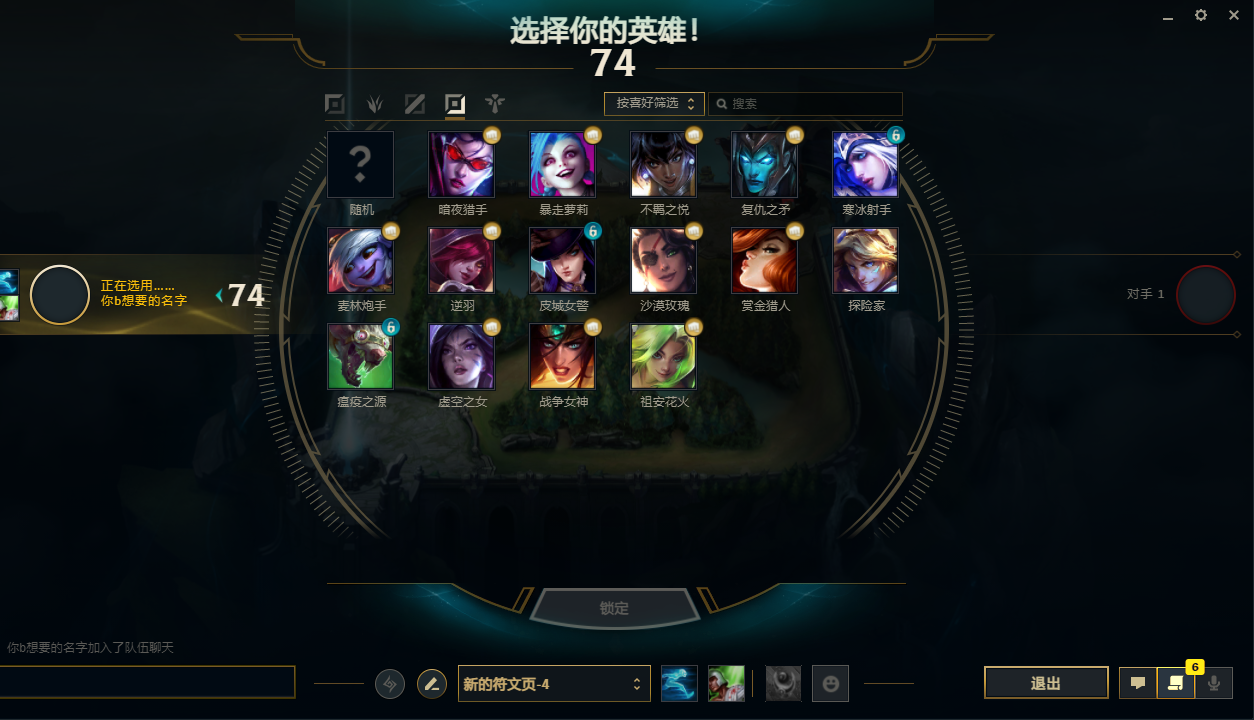HBSS: (832, 147, 906, 200)
HSSD: (516, 580, 707, 637)
JKS: (529, 148, 599, 201)
NJ: (524, 244, 603, 299)
NQ: (726, 249, 801, 296)
XDXL: (440, 87, 469, 119)
XP: (327, 245, 398, 298)
